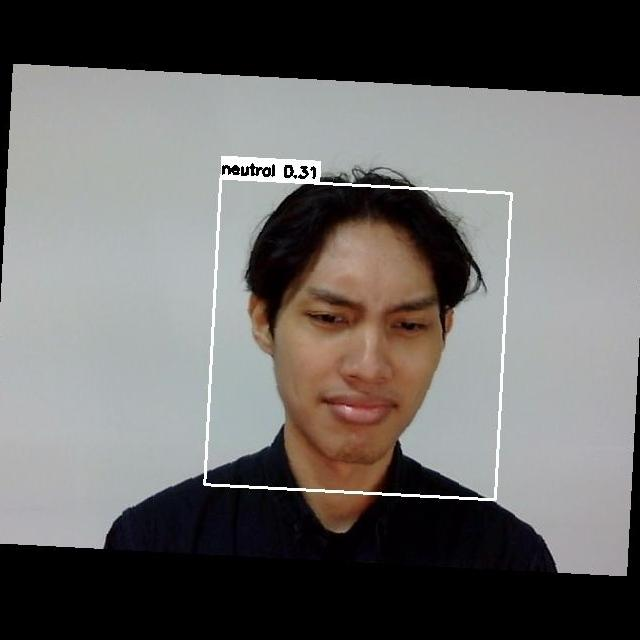Disgust: (278, 258, 446, 453)
